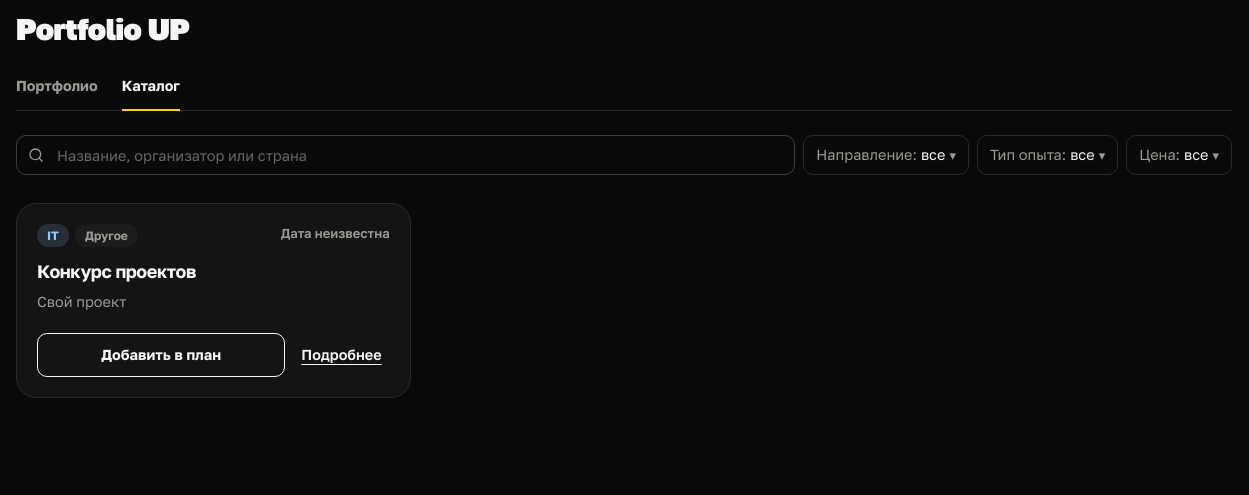
it: подробнее открывает полную карточку с регистрацией отдельно
The image size is (1249, 495).
Step 1. Click the button "Подробнее" → (342, 355), box [293,334,390,376]
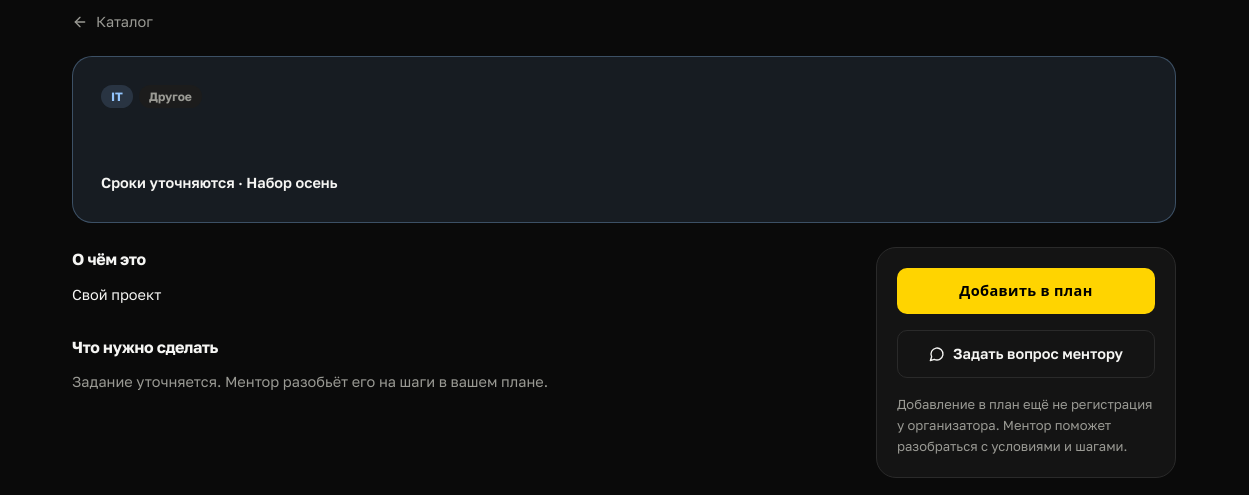
Expected: the button "Добавить в план" is enabled, [897,268,1155,314]
Expected: the text "ещё не регистрация" is shown, [897,396,1152,454]
